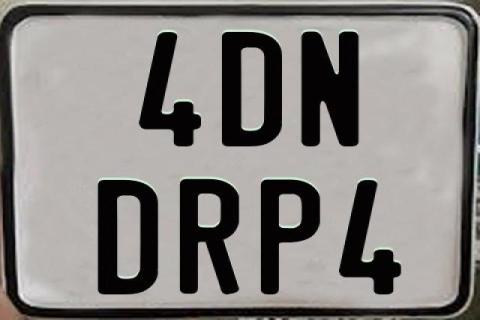0: (338, 178, 402, 298), (137, 32, 201, 150)
D: (220, 29, 280, 149), (98, 180, 159, 294)
N: (299, 31, 360, 148)
P: (261, 178, 321, 298)
R: (180, 177, 243, 295)
